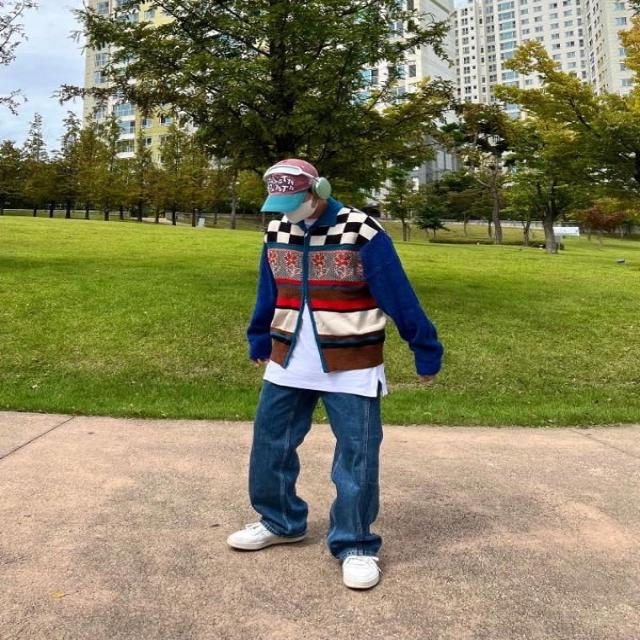cardigan: (248, 192, 444, 381)
denimpants: (250, 386, 383, 558)
